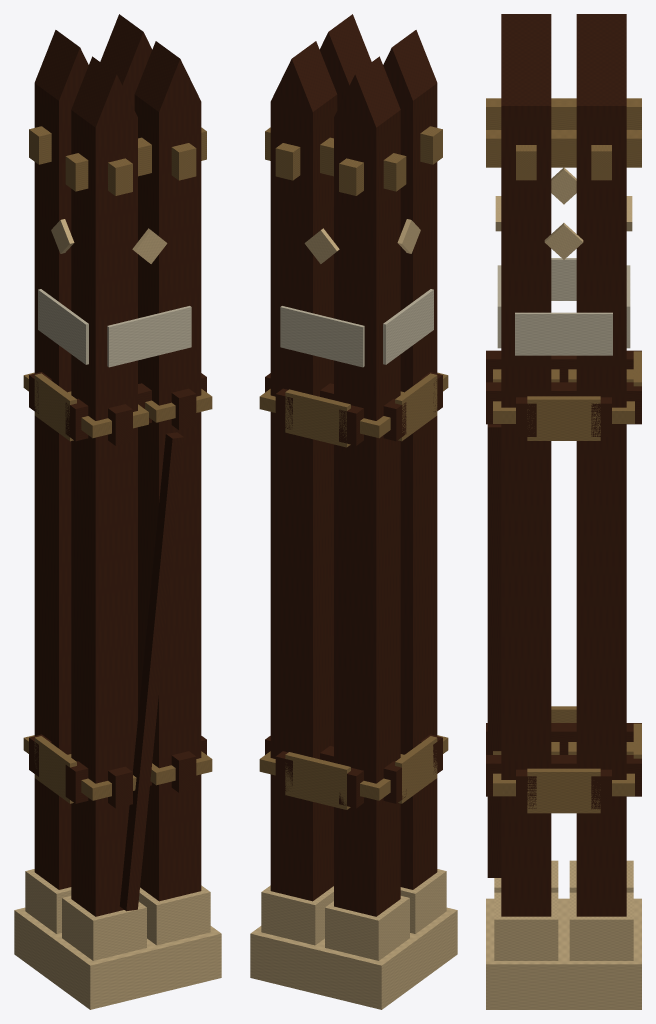
File: Berber_PalisadeBastion_Age4_junction_T.fbx
3 views of the same model, side by side, from view 1: azimuth 30°, elevation 25°; view 2: azimuth 150°, elevation 25°; view 3: azimuth 270°, elevation 25° (orthographic). The views are drawn at different scales.
Visible parts, largest first — view 1: split_timber_upright.012, split_timber_upright.014, split_timber_upright.013, compacted_earth_footing.003, terminal_diagonal_stay.014, earth_post_socket.012, native_owner_stripe_source.014, earth_post_socket.014, split_timber_upright.015, native_owner_stripe_source.012, earth_post_socket.013, exposed_wall_socket_collar.015 (+16 smaller); view 2: split_timber_upright.013, split_timber_upright.015, split_timber_upright.012, compacted_earth_footing.003, earth_post_socket.013, native_owner_stripe_source.015, earth_post_socket.015, exposed_wall_socket_collar.012, exposed_wall_socket_collar.013, split_timber_upright.014, native_owner_stripe_source.012, earth_post_socket.012 (+14 smaller); view 3: split_timber_upright.014, split_timber_upright.015, compacted_earth_footing.003, terminal_diagonal_stay.014, native_owner_stripe_source.013, earth_post_socket.014, earth_post_socket.015, exposed_wall_socket_collar.010, exposed_wall_socket_collar.011, locking_head_tie_y.007, locking_head_tie_y.006, split_timber_upright.012 (+19 smaller).
Part boxes in pixels (bbox=[...]): split_timber_upright.012: bbox=[71, 56, 137, 916]; split_timber_upright.014: bbox=[134, 41, 201, 901]; split_timber_upright.013: bbox=[34, 30, 88, 889]; compacted_earth_footing.003: bbox=[14, 907, 221, 1009]; terminal_diagonal_stay.014: bbox=[119, 432, 183, 911]; earth_post_socket.012: bbox=[62, 896, 146, 960]; native_owner_stripe_source.014: bbox=[107, 306, 191, 367]; earth_post_socket.014: bbox=[138, 885, 210, 945]; split_timber_upright.015: bbox=[100, 14, 152, 109]; native_owner_stripe_source.012: bbox=[38, 289, 88, 364]; earth_post_socket.013: bbox=[25, 869, 71, 933]; exposed_wall_socket_collar.015: bbox=[34, 373, 76, 441]; split_timber_upright.013: bbox=[334, 56, 400, 916]; split_timber_upright.015: bbox=[270, 41, 337, 901]; split_timber_upright.012: bbox=[383, 30, 437, 889]; compacted_earth_footing.003: bbox=[250, 907, 457, 1009]; earth_post_socket.013: bbox=[325, 896, 409, 960]; native_owner_stripe_source.015: bbox=[280, 306, 364, 367]; earth_post_socket.015: bbox=[261, 885, 333, 945]; exposed_wall_socket_collar.012: bbox=[285, 752, 350, 809]; exposed_wall_socket_collar.013: bbox=[285, 389, 350, 447]; split_timber_upright.014: bbox=[319, 14, 371, 109]; native_owner_stripe_source.012: bbox=[383, 289, 433, 364]; earth_post_socket.012: bbox=[400, 869, 446, 933]; split_timber_upright.014: bbox=[501, 46, 551, 916]; split_timber_upright.015: bbox=[576, 46, 626, 916]; compacted_earth_footing.003: bbox=[486, 898, 641, 1009]; terminal_diagonal_stay.014: bbox=[487, 424, 501, 877]; native_owner_stripe_source.013: bbox=[515, 312, 612, 355]; earth_post_socket.014: bbox=[494, 892, 558, 960]; earth_post_socket.015: bbox=[569, 892, 633, 960]; exposed_wall_socket_collar.010: bbox=[527, 768, 600, 813]; exposed_wall_socket_collar.011: bbox=[527, 396, 600, 440]; locking_head_tie_y.007: bbox=[486, 130, 641, 167]; locking_head_tie_y.006: bbox=[486, 98, 641, 129]; split_timber_upright.012: bbox=[501, 14, 551, 45].
Bounding box in the file's own units: 68.29 × 458 × 68.29.
4 materials, 4 textured.
